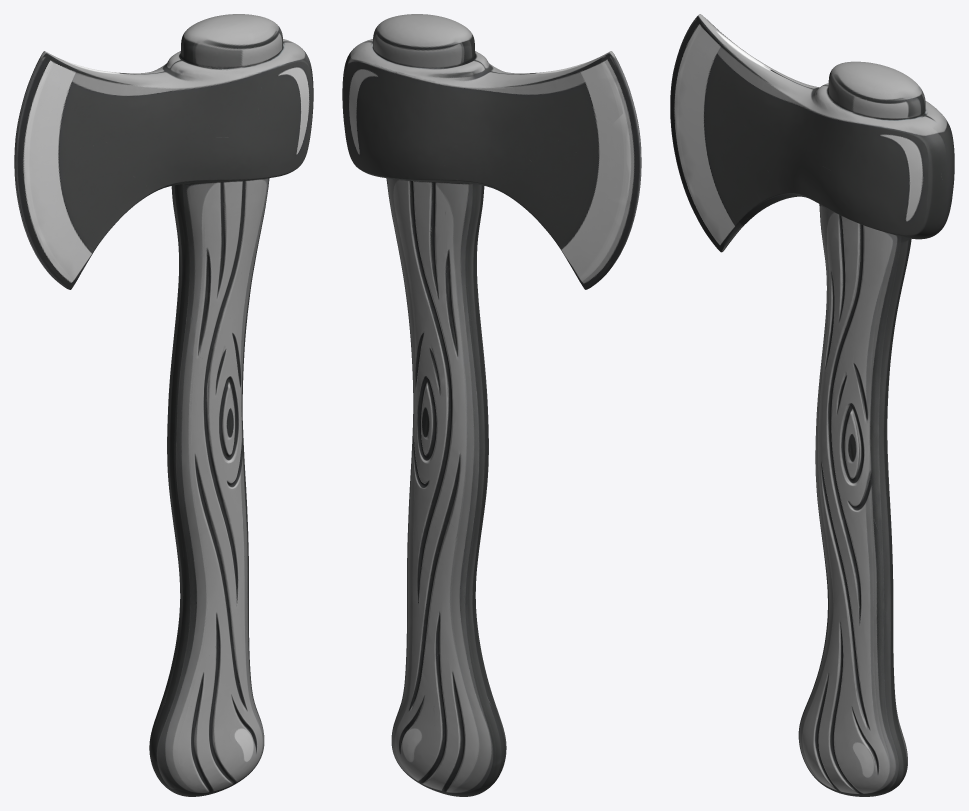
Rendered from Axe.glb.
3 renders of one model, left to right at view 1: azimuth 30°, elevation 25°; view 2: azimuth 150°, elevation 25°; view 3: azimuth 330°, elevation 25°, orthographic. The views are drawn at different scales.
Bounding box in the file's own units: 0.0118 × 0.03 × 0.00335.
Materials: 1 (1 with a texture image).
